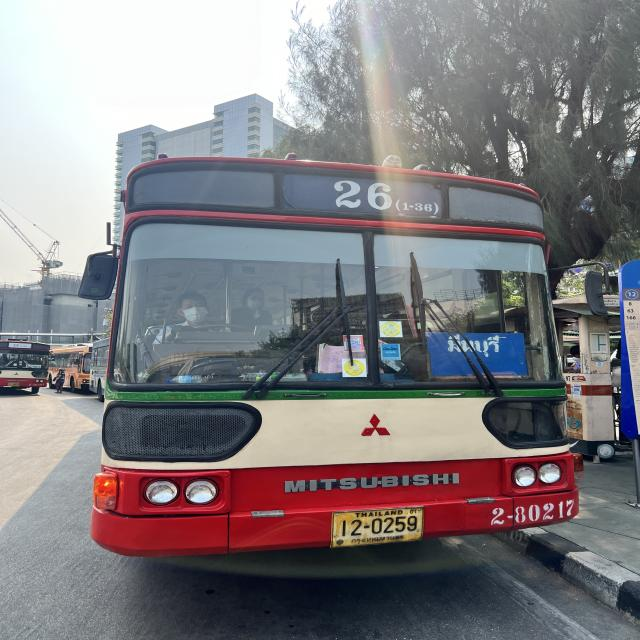BMTA-bus: (90, 156, 584, 576), (0, 332, 54, 398), (49, 346, 96, 396), (94, 333, 109, 401)
Bus-Line-Number: (284, 166, 442, 221), (10, 342, 29, 348)
Destination-Sign-Normal: (425, 334, 530, 379), (25, 364, 41, 368)
